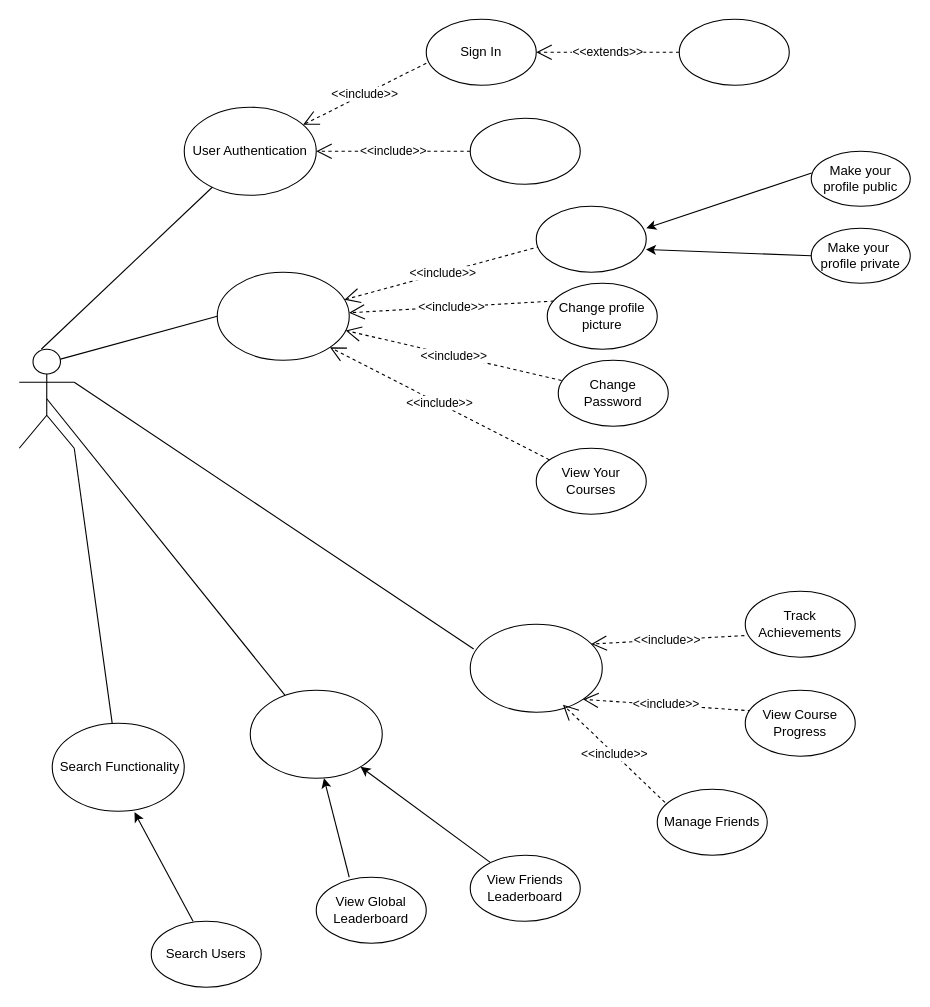
Image size: 930x1007. Some labels were removed from this diagram. Here are the shapes that lost their labels. From the top down, the box of each, then its label:
(678, 18, 789, 85): Forgot Password
(469, 117, 580, 184): Sign Up
(535, 205, 646, 272): Privacy Options
(216, 271, 349, 360): Manage Profile
(18, 348, 74, 448): User
(469, 623, 602, 712): Profile Features
(249, 689, 382, 778): View Leaderboard
